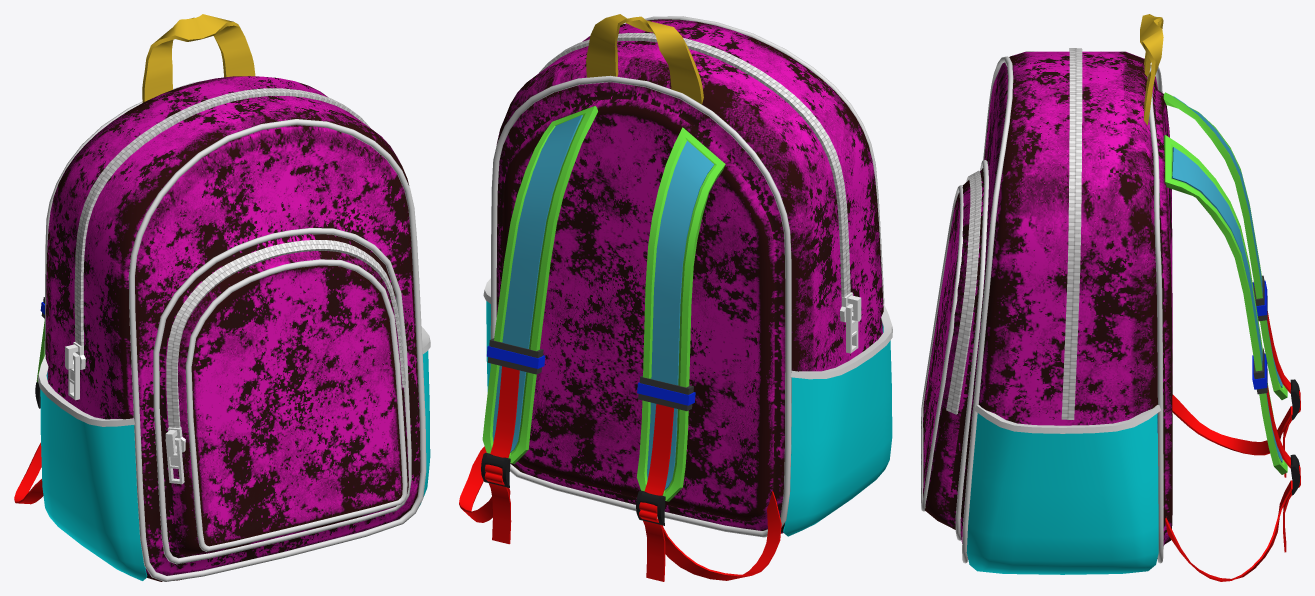
Rendered from Ranac 1.FBX.
The picture shows the model from 3 angles, left to right: view 1: azimuth 30°, elevation 25°; view 2: azimuth 150°, elevation 25°; view 3: azimuth 270°, elevation 25°; orthographic projection. The views are drawn at different scales.
Parts seen in each view (by area): view 1: Box001, Shape001, Object001, Shape007; view 2: Box001, Object001, Shape001, Shape007; view 3: Box001, Object001, Shape001, Shape007.
Boxes of the visible parts, <box> form: Box001: <box>45,76,420,581</box>; Shape001: <box>37,77,430,581</box>; Object001: <box>14,14,430,580</box>; Shape007: <box>65,88,405,484</box>; Box001: <box>496,19,883,533</box>; Object001: <box>459,14,892,581</box>; Shape001: <box>483,16,892,537</box>; Shape007: <box>539,33,861,353</box>; Box001: <box>923,51,1172,559</box>; Object001: <box>966,14,1300,581</box>; Shape001: <box>921,56,1163,563</box>; Shape007: <box>946,48,1082,419</box>.
Size of the model in its own units: 105 by 137 by 95.03.
